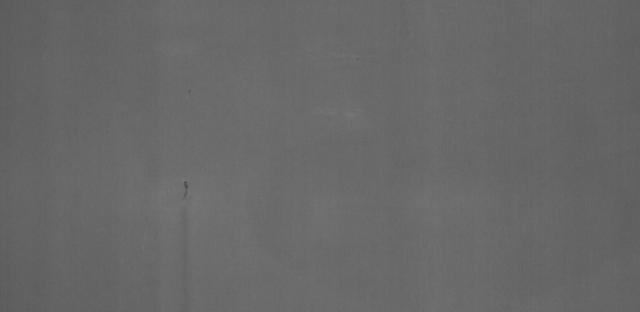inclusion: (171, 171, 198, 206)
